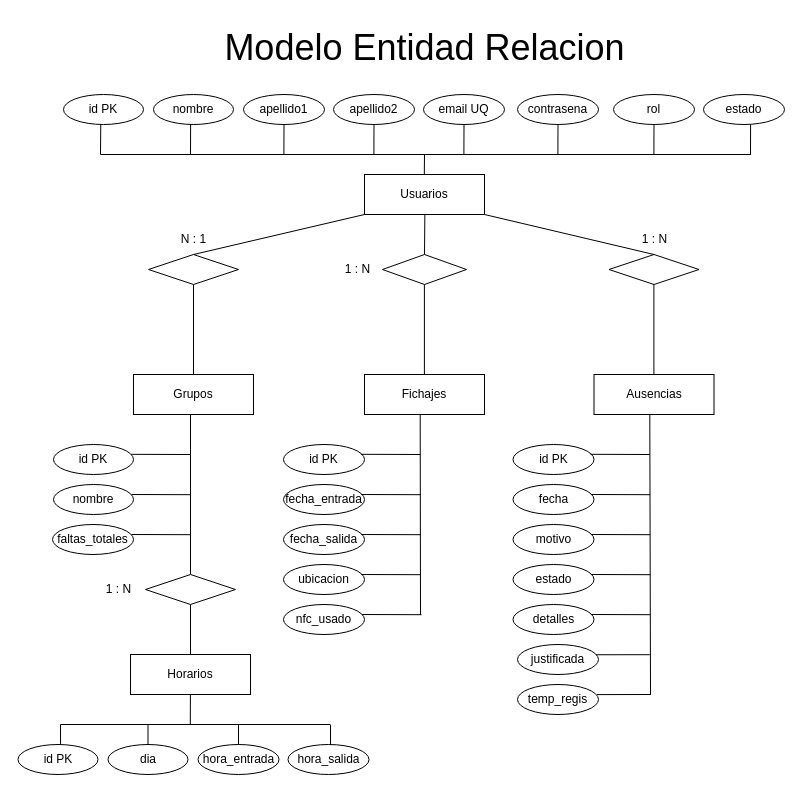
The diagram is 802 pixels wide and 792 high, and some of its shapes have lost their labels. The shapes that lost their labels are listed below. From the top down, each one's box as (x1, y1, x2, y2) in pixels, then its label:
(148, 254, 238, 284): Pertenece
(382, 254, 466, 284): Realiza
(608, 254, 699, 284): Registra
(144, 574, 236, 604): Tiene
